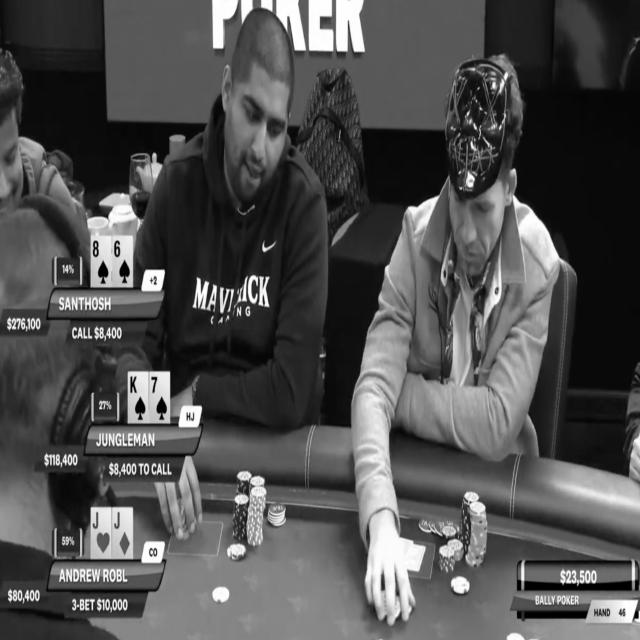6S: (114, 237, 132, 285)
7S: (150, 372, 168, 422)
8S: (92, 237, 110, 286)
JD: (113, 509, 132, 558)
JH: (91, 509, 111, 557)
KS: (129, 372, 147, 422)
